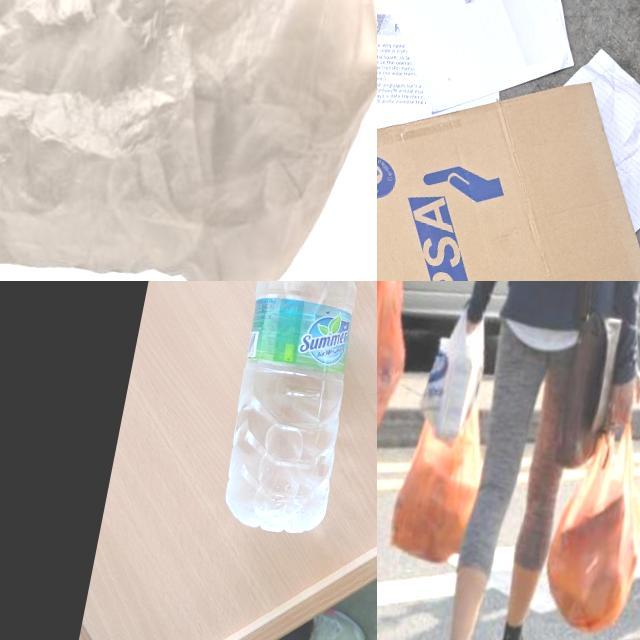garrafa plástica: (211, 281, 377, 541)
papel: (377, 0, 595, 196), (538, 42, 640, 247)
papelão: (377, 14, 640, 281)
sacola plástica: (0, 0, 377, 281), (525, 380, 640, 640), (377, 415, 502, 617), (408, 284, 507, 461), (377, 281, 437, 529)
